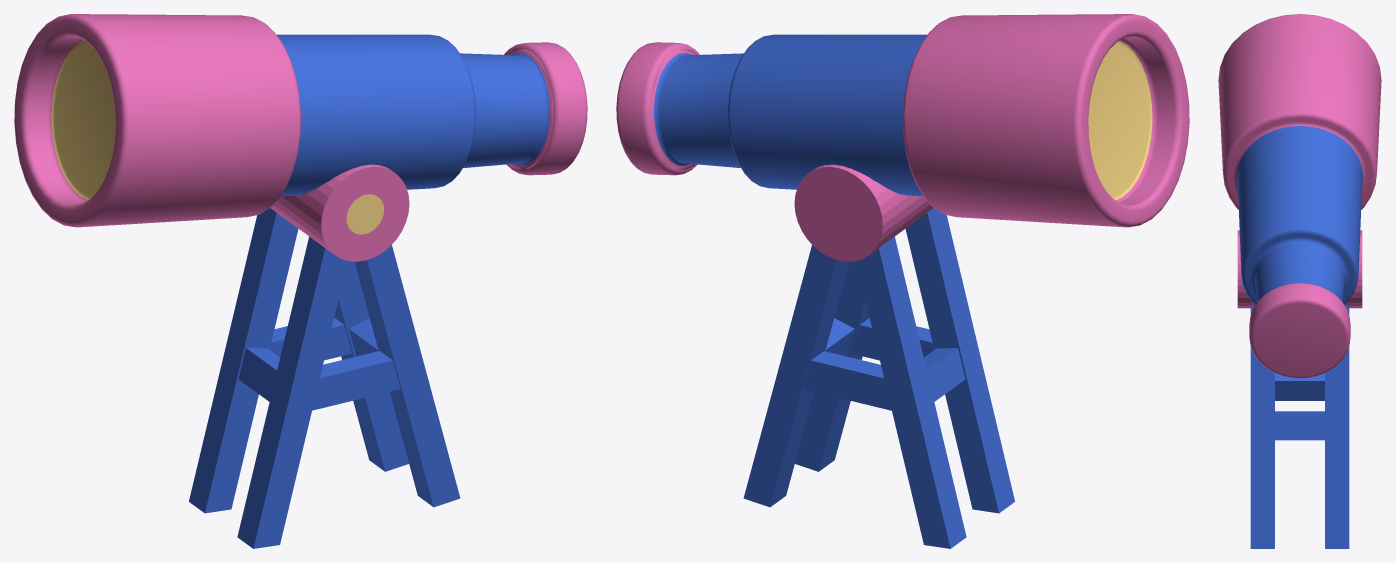
File: telescope.fbx
3 renders of one model, left to right at view 1: azimuth 30°, elevation 25°; view 2: azimuth 150°, elevation 25°; view 3: azimuth 270°, elevation 25°, orthographic. The views are drawn at different scales.
Visible parts, largest first — view 1: Cylinder; view 2: Cylinder; view 3: Cylinder.
Part boxes in pixels (<box>): Cylinder: <box>14,14,587,548</box>; Cylinder: <box>616,14,1189,548</box>; Cylinder: <box>1218,14,1381,548</box>.
Size of the model in its own units: 223 by 222 by 79.94.
